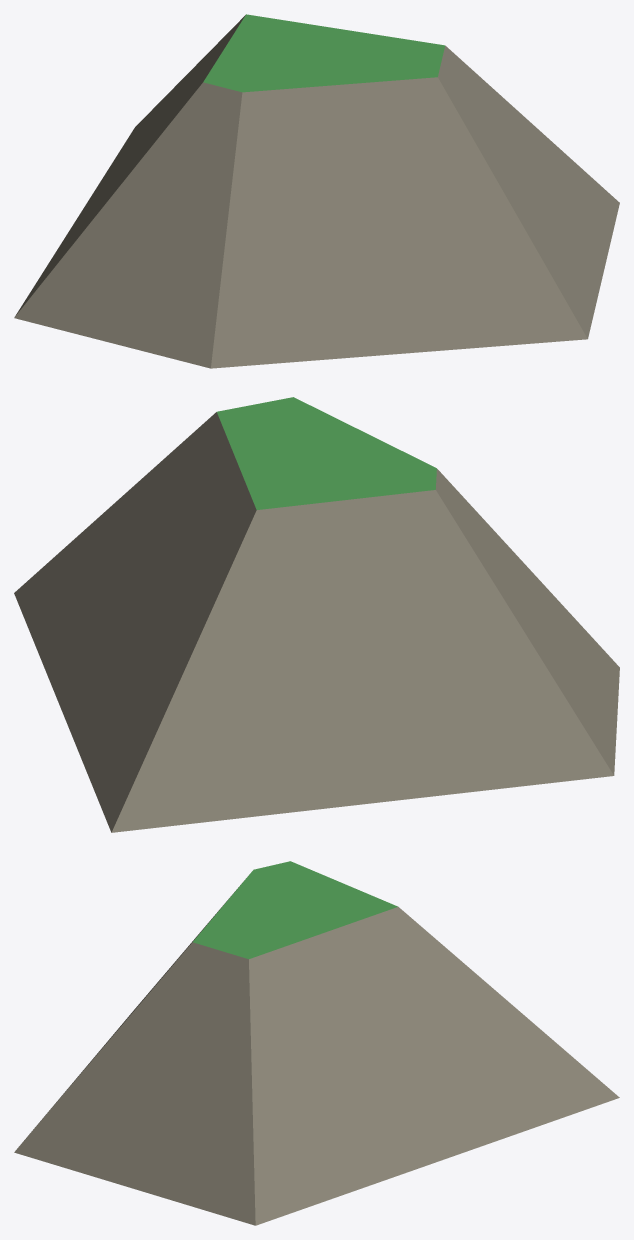
Rendered from rock-small.glb.
3 views of the same model, one above another, from view 1: azimuth 30°, elevation 25°; view 2: azimuth 150°, elevation 25°; view 3: azimuth 270°, elevation 25° (orthographic). The views are drawn at different scales.
Visible parts, largest first — view 1: rock-small; view 2: rock-small; view 3: rock-small.
Part boxes in pixels (x1=…): rock-small: x1=14, y1=14, x2=619, y2=368; rock-small: x1=14, y1=397, x2=619, y2=832; rock-small: x1=14, y1=861, x2=619, y2=1225.
Size of the model in its own units: 1.53 by 0.52 by 1.53.
